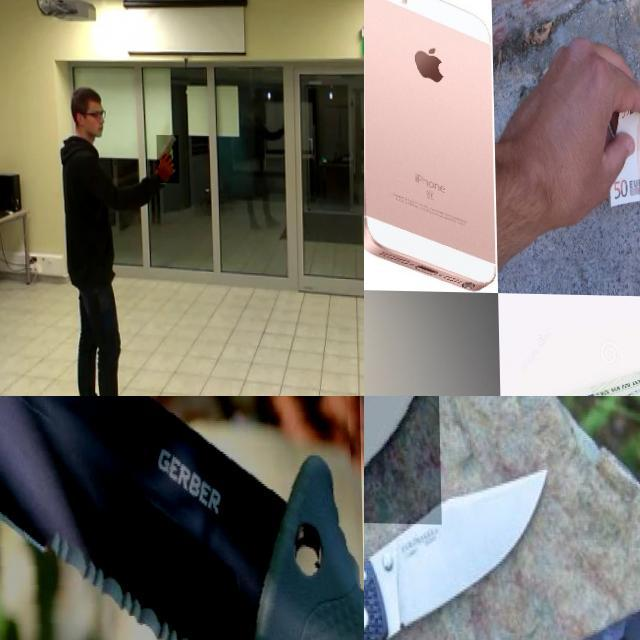-: (0, 396, 364, 640), (364, 455, 552, 640), (364, 396, 455, 522), (469, 587, 640, 640)
gun-knife-thesis - v11 Yolov5 augmented: (155, 134, 178, 182)
